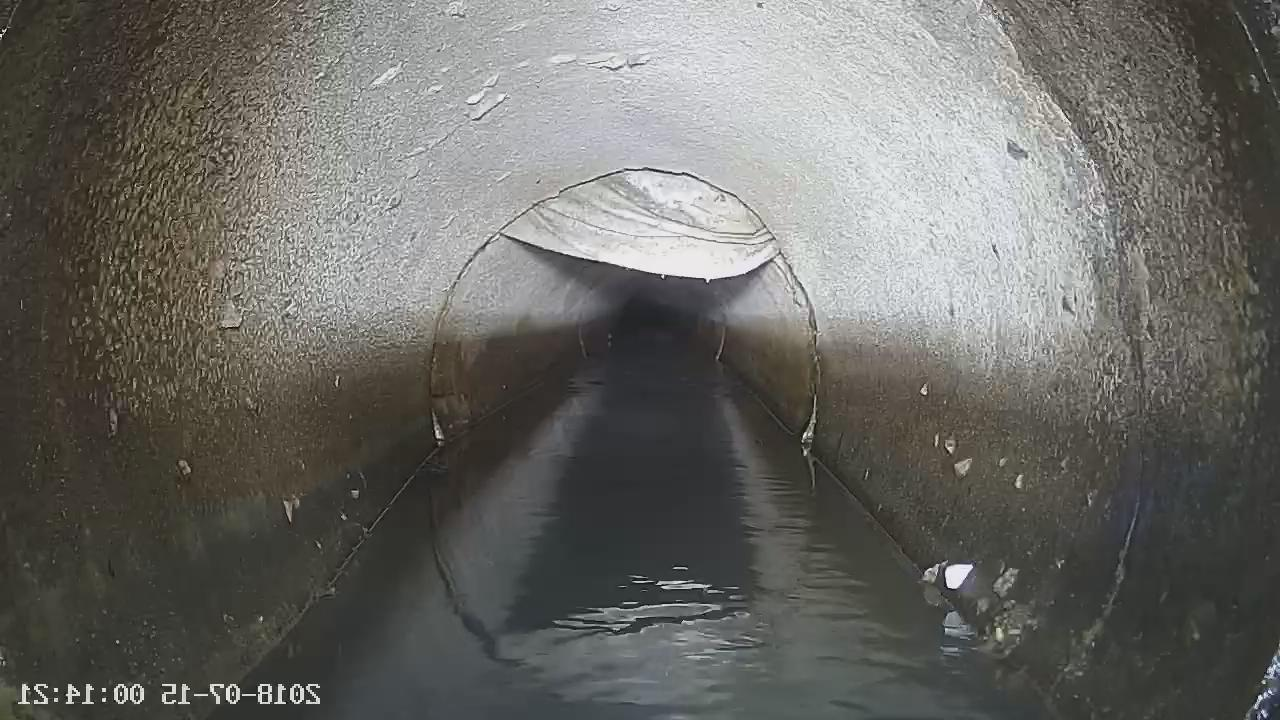YWCR: (502, 168, 779, 281)
